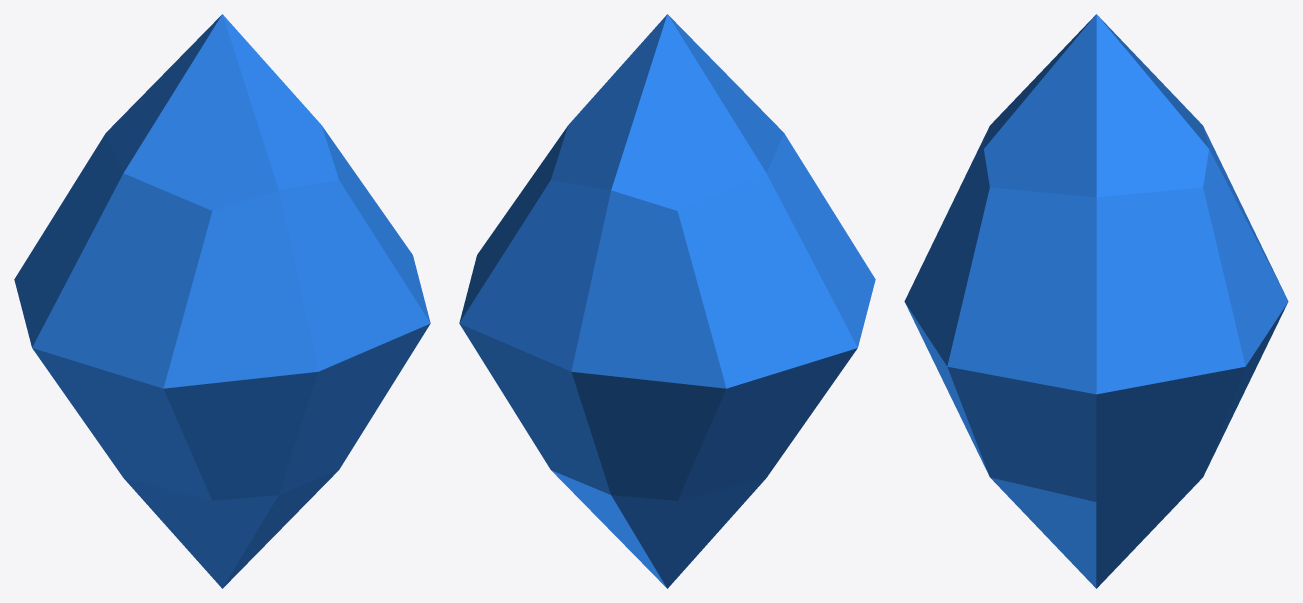
File: gem.fbx
The picture shows the model from 3 angles, left to right: view 1: azimuth 30°, elevation 25°; view 2: azimuth 150°, elevation 25°; view 3: azimuth 270°, elevation 25°; orthographic projection.
Parts seen in each view (by area): view 1: Cube; view 2: Cube; view 3: Cube.
Part boxes in pixels (x1,y1,x2,y2): Cube: [14, 14, 430, 588]; Cube: [459, 14, 875, 588]; Cube: [904, 14, 1288, 588].
Bounding box in the file's own units: 1.14 × 1.64 × 0.9921.
